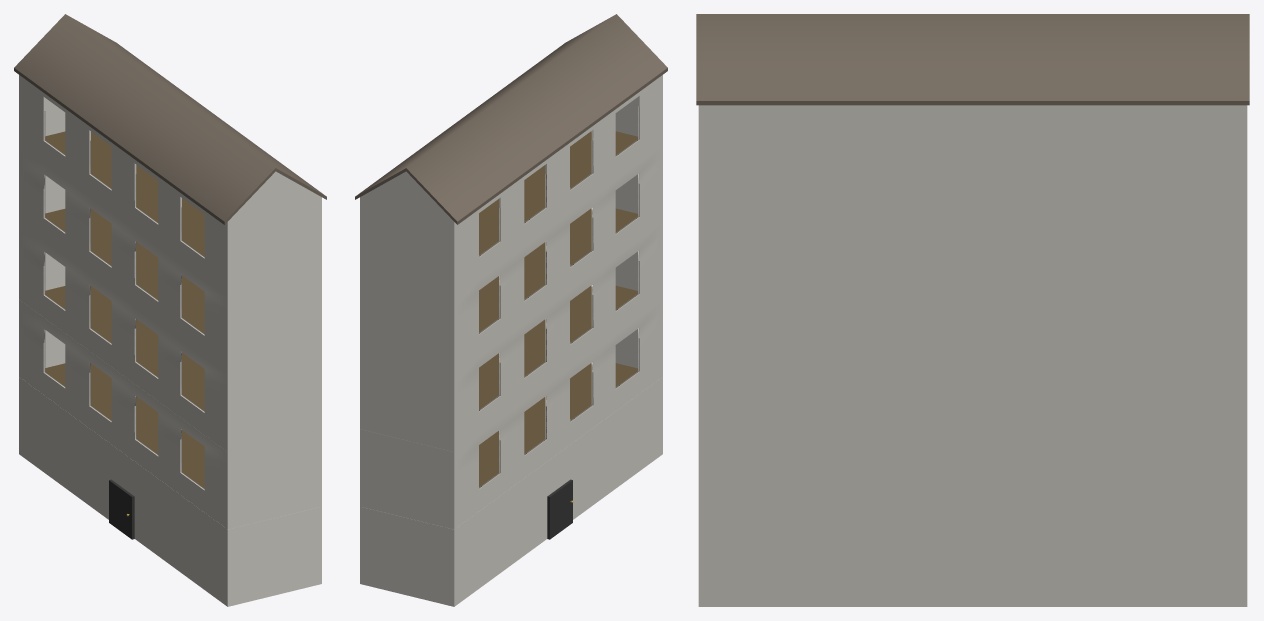
File: Apartment.fbx
3 renders of one model, left to right at view 1: azimuth 30°, elevation 25°; view 2: azimuth 150°, elevation 25°; view 3: azimuth 270°, elevation 25°, orthographic. The views are drawn at different scales.
Parts seen in each view (by area): view 1: Frame3, Frame, Frame1, Frame2, Bottom_Floor, Roof, Door4; view 2: Frame3, Frame, Frame1, Frame2, Bottom_Floor, Roof, Door4; view 3: Frame, Frame1, Frame2, Bottom_Floor, Frame3, Roof.
Boxes of the visible parts, box(x1,y1,x2,y2) form: Frame3: box(19, 75, 321, 297); Frame: box(19, 299, 321, 529); Frame1: box(19, 222, 321, 451); Frame2: box(19, 145, 321, 374); Bottom_Floor: box(19, 377, 321, 606); Roof: box(14, 14, 326, 224); Door4: box(109, 479, 134, 539); Frame3: box(360, 75, 662, 297); Frame: box(360, 299, 662, 529); Frame1: box(360, 222, 662, 451); Frame2: box(360, 145, 662, 374); Bottom_Floor: box(360, 377, 662, 606); Roof: box(355, 14, 667, 224); Door4: box(547, 479, 573, 539); Frame: box(698, 403, 1247, 505); Frame1: box(698, 301, 1247, 403); Frame2: box(698, 200, 1247, 301); Bottom_Floor: box(698, 505, 1247, 606); Frame3: box(698, 105, 1247, 200); Roof: box(696, 14, 1249, 105).
Bounding box in the file's own units: 458 × 1802 × 1606.
